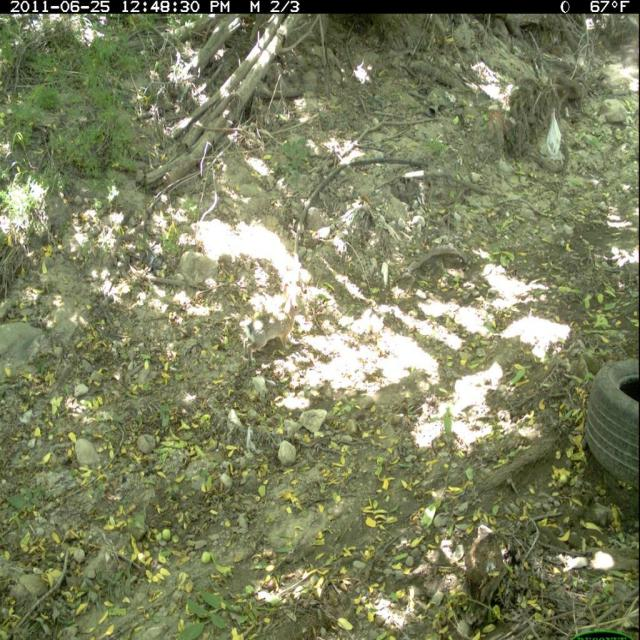rabbit: (238, 282, 304, 370)
